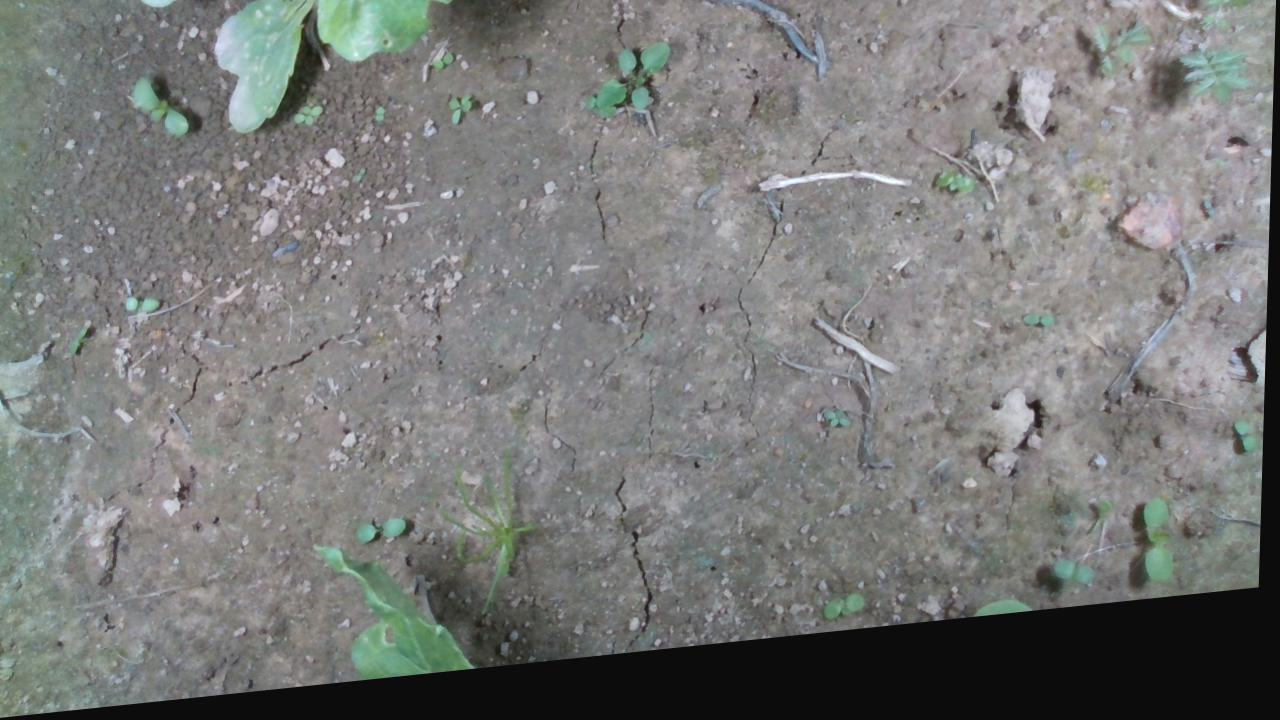weed: (131, 73, 191, 143), (1144, 518, 1181, 610), (355, 523, 410, 555), (933, 188, 979, 218), (1056, 579, 1099, 610), (826, 610, 868, 639), (1234, 443, 1259, 483), (447, 101, 475, 135), (123, 295, 163, 317), (291, 109, 324, 135), (68, 326, 89, 361), (430, 61, 455, 81), (796, 0, 825, 11), (375, 112, 387, 133)
